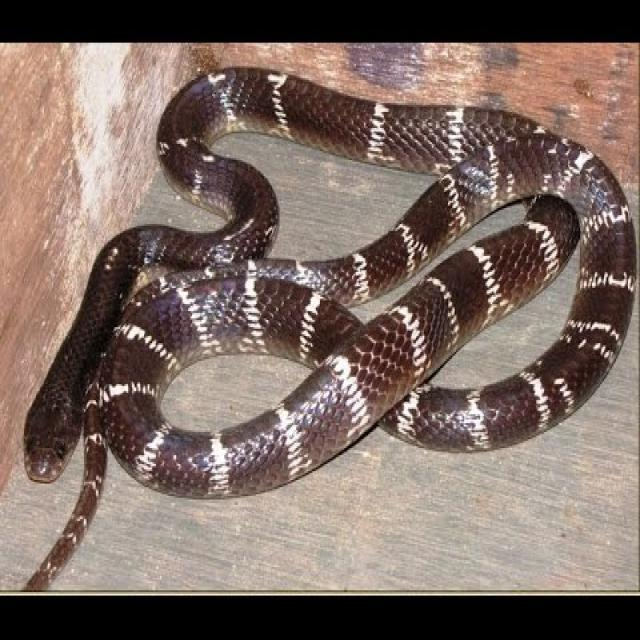Snake: (20, 62, 636, 590)
